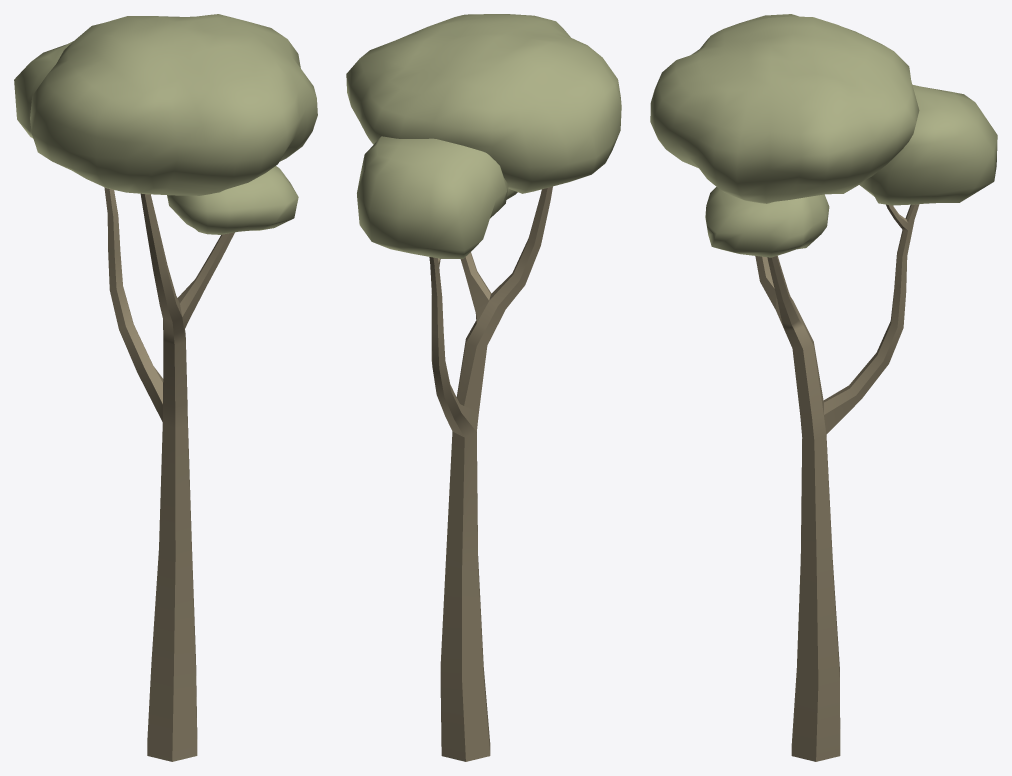
Rendered from skinny tree.fbx.
The picture shows the model from 3 angles, left to right: view 1: azimuth 30°, elevation 25°; view 2: azimuth 150°, elevation 25°; view 3: azimuth 270°, elevation 25°; orthographic projection. The views are drawn at different scales.
Visible parts, largest first — view 1: polySurface4; view 2: polySurface4; view 3: polySurface4.
Boxes of the visible parts, x1,y1,x2,y2 form: polySurface4: [14, 14, 317, 761]; polySurface4: [346, 14, 621, 761]; polySurface4: [650, 14, 997, 761].
Size of the model in its own units: 103 by 125 by 280.
